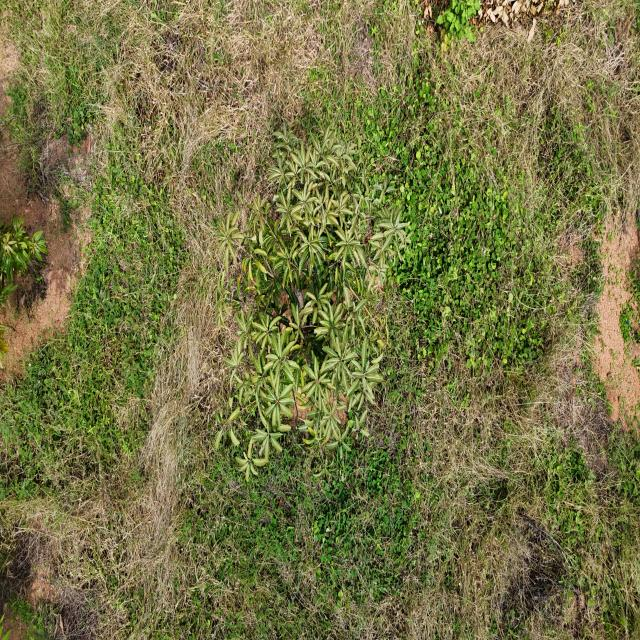mangoTree: (214, 115, 411, 486), (0, 206, 49, 306)
